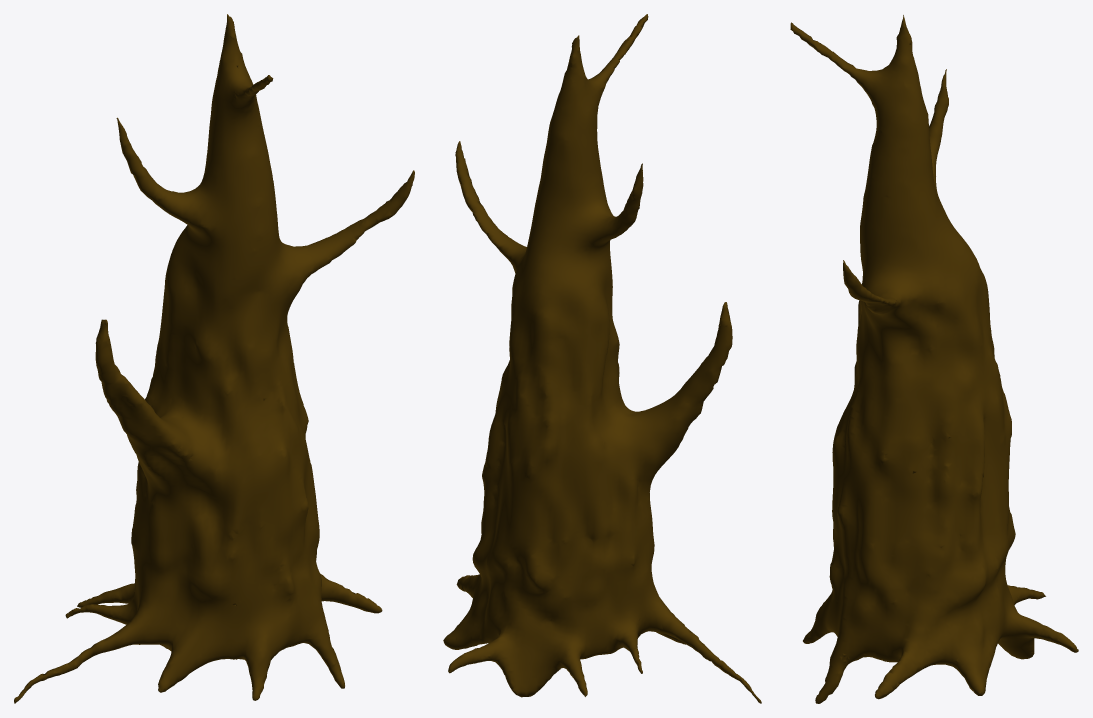
Rendered from tree 1.fbx.
3 renders of one model, left to right at view 1: azimuth 30°, elevation 25°; view 2: azimuth 150°, elevation 25°; view 3: azimuth 270°, elevation 25°, orthographic. The views are drawn at different scales.
Visible parts, largest first — view 1: Cylinder; view 2: Cylinder; view 3: Cylinder.
Boxes of the visible parts, box(x1,y1,x2,y2) form: Cylinder: box(14, 14, 414, 703); Cylinder: box(443, 14, 761, 703); Cylinder: box(790, 15, 1078, 703).
Size of the model in its own units: 473 by 830 by 331.
